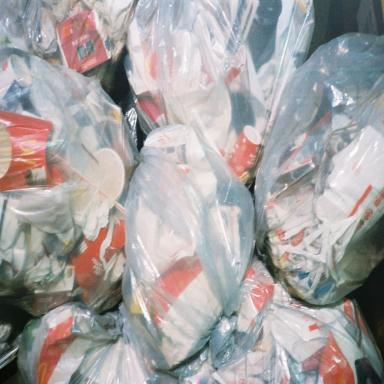plasticbag: (0, 43, 142, 320), (269, 37, 384, 304), (122, 109, 250, 338), (123, 2, 313, 134)
